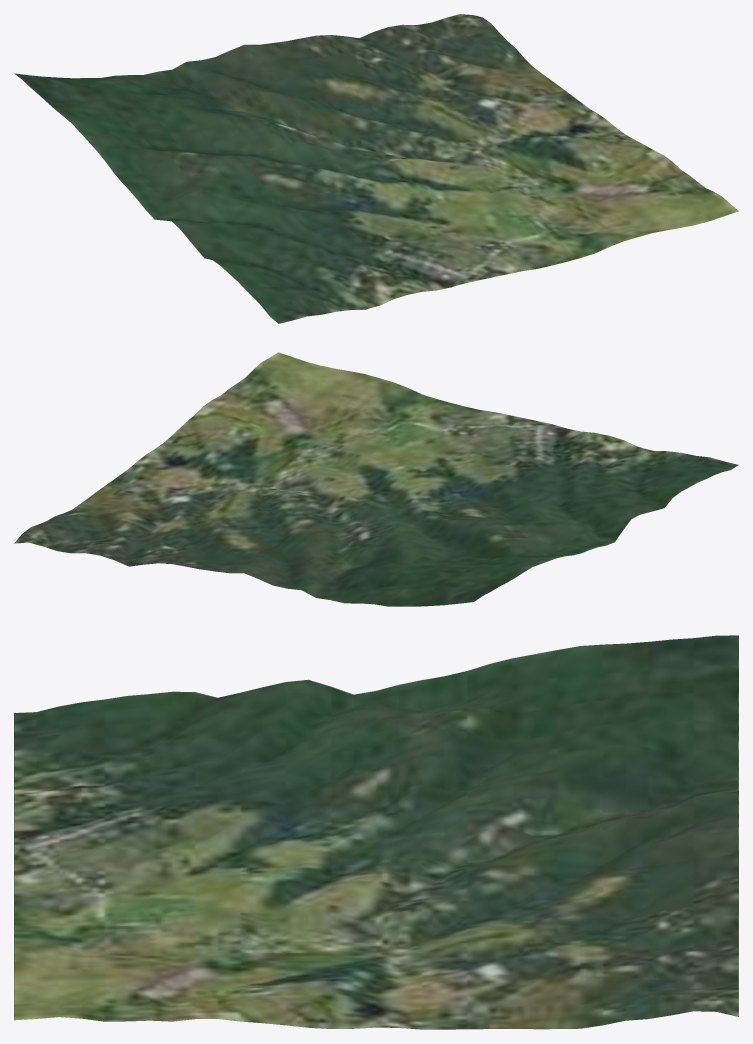
3 views of the same model, one above another, from view 1: azimuth 30°, elevation 25°; view 2: azimuth 150°, elevation 25°; view 3: azimuth 270°, elevation 25° (orthographic). The views are drawn at different scales.
Bounding box in the file's own units: 1950 × 264 × 1941.
Materials: 1 (1 with a texture image).
